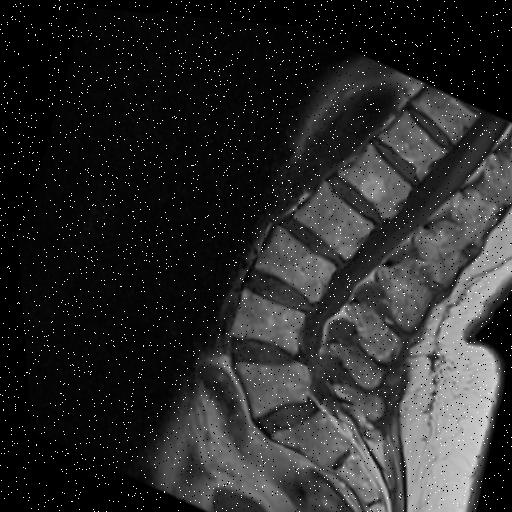L1: (335, 137, 408, 212)
L2: (290, 175, 369, 252)
L3: (250, 221, 330, 296)
L4: (227, 283, 301, 350)
L5: (230, 356, 306, 413)
S1: (265, 406, 342, 462)
